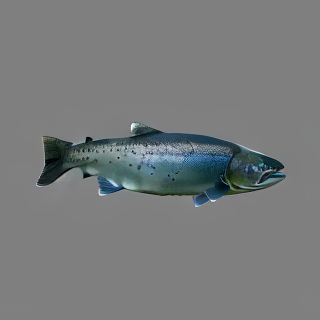Chinook salmon: (35, 119, 290, 209)
